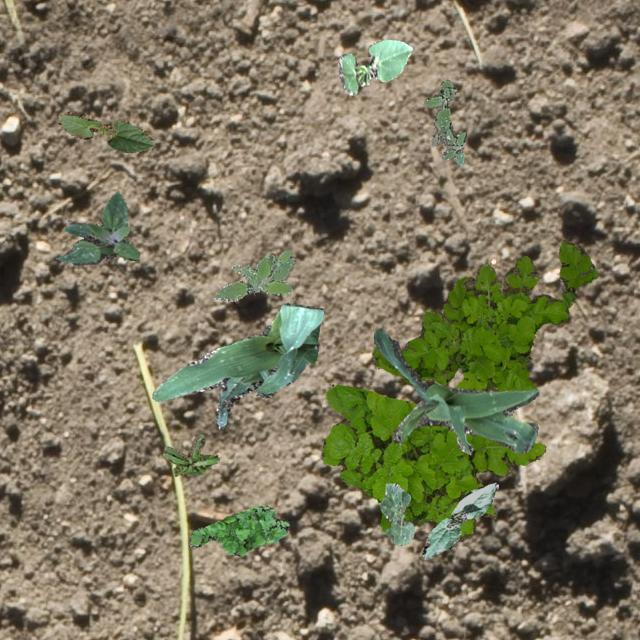crop: (152, 302, 322, 428), (372, 328, 538, 453), (422, 482, 498, 560), (56, 110, 154, 152), (338, 40, 412, 94), (379, 482, 414, 544)
weed: (321, 384, 544, 540), (372, 238, 596, 390), (54, 190, 138, 264), (188, 504, 290, 556), (212, 250, 294, 300), (422, 78, 466, 164), (160, 434, 218, 474)
